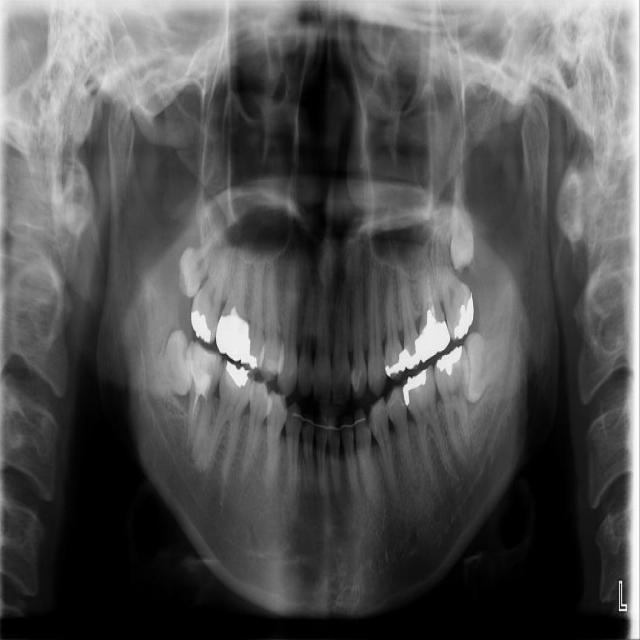Crown: (216, 315, 249, 362), (419, 316, 450, 363)
Filling: (186, 340, 222, 399), (453, 291, 476, 343), (401, 369, 431, 405), (433, 341, 463, 376), (222, 361, 253, 392), (188, 309, 212, 342), (403, 336, 421, 367), (385, 350, 406, 376), (243, 339, 259, 367)
impacted tooth: (463, 317, 516, 400), (142, 329, 192, 396), (453, 165, 475, 270)
